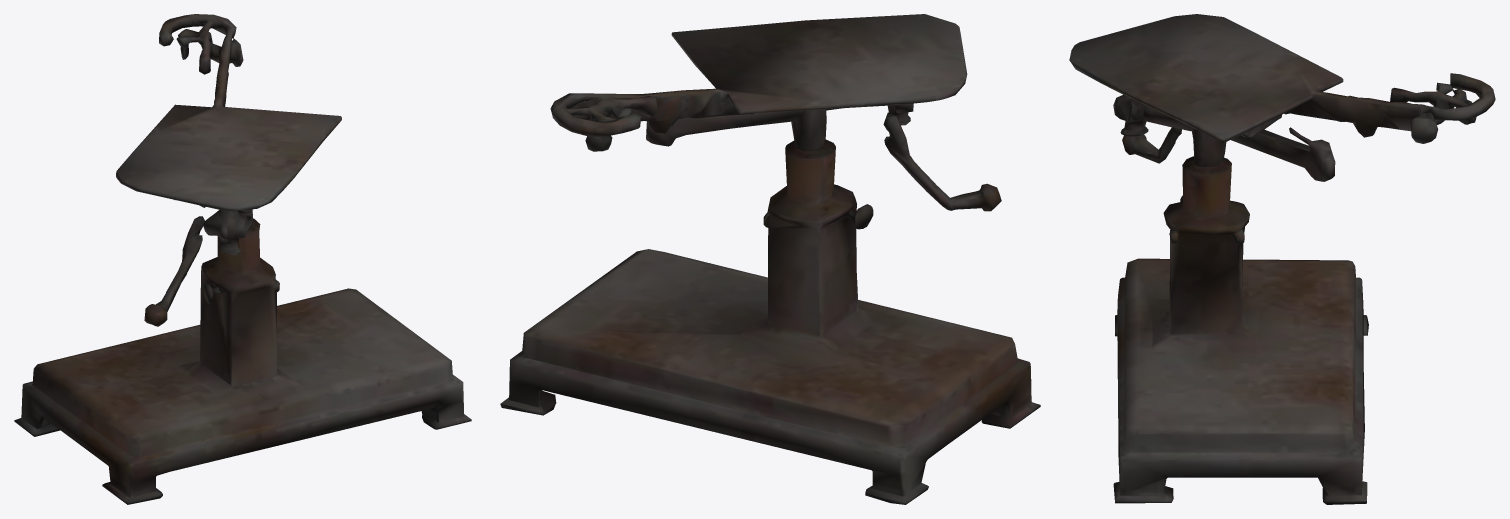
File: weathered-iron-operating-table-v002.glb
The picture shows the model from 3 angles, left to right: view 1: azimuth 30°, elevation 25°; view 2: azimuth 150°, elevation 25°; view 3: azimuth 270°, elevation 25°; orthographic projection. The views are drawn at different scales.
Parts seen in each view (by area): view 1: weathered-iron-operating-table; view 2: weathered-iron-operating-table; view 3: weathered-iron-operating-table.
Boxes of the visible parts, box(x1,y1,x2,y2) form: weathered-iron-operating-table: box(14, 14, 471, 504); weathered-iron-operating-table: box(500, 14, 1040, 504); weathered-iron-operating-table: box(1069, 14, 1495, 504).
Bounding box in the file's own units: 0.994 × 0.8673 × 0.9612.
Materials: 1 (1 with a texture image).
